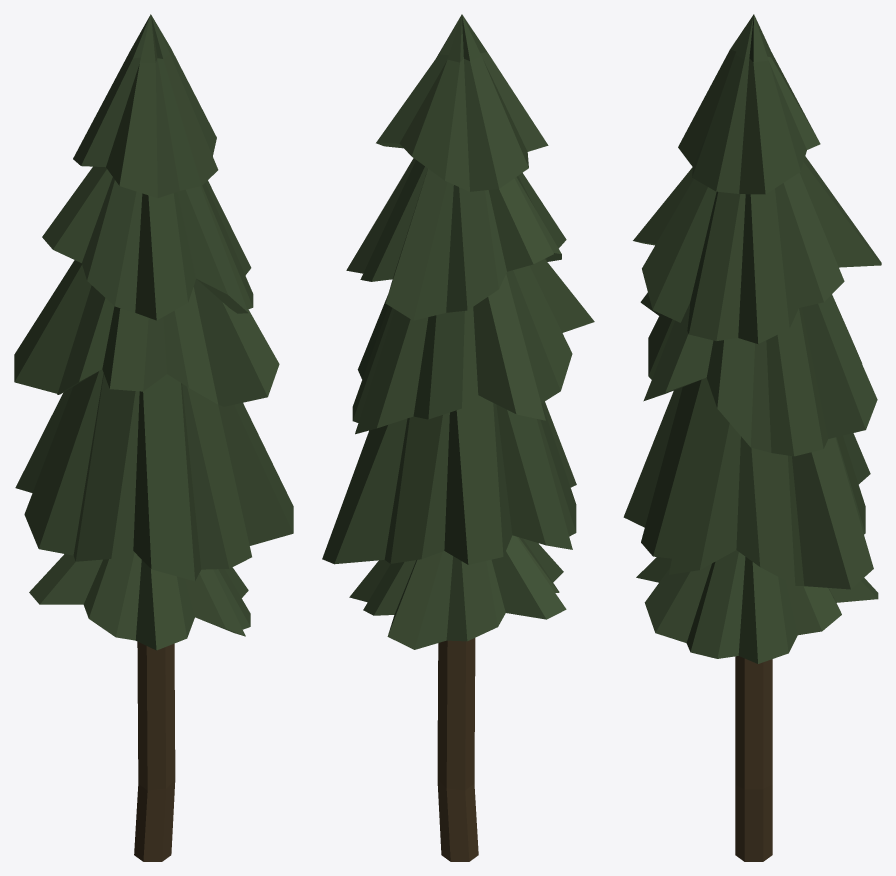
Rendered from sapin_1.fbx.
3 renders of one model, left to right at view 1: azimuth 30°, elevation 25°; view 2: azimuth 150°, elevation 25°; view 3: azimuth 270°, elevation 25°, orthographic.
Visible parts, largest first — view 1: sapin1.001; view 2: sapin1.001; view 3: sapin1.001.
Part boxes in pixels (x1,y1,x2,y2): sapin1.001: (14,14,293,861); sapin1.001: (322,14,594,861); sapin1.001: (623,14,881,861).
Size of the model in its own units: 332 by 1174 by 327.
